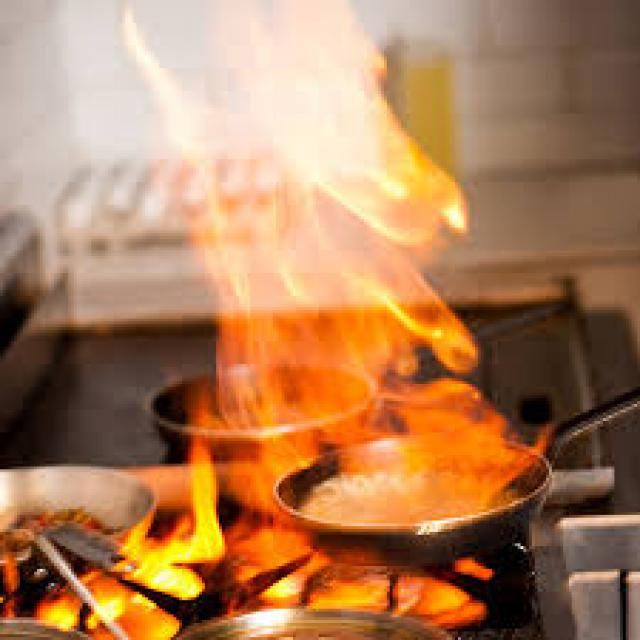fire: (150, 3, 483, 555), (34, 450, 586, 637)
